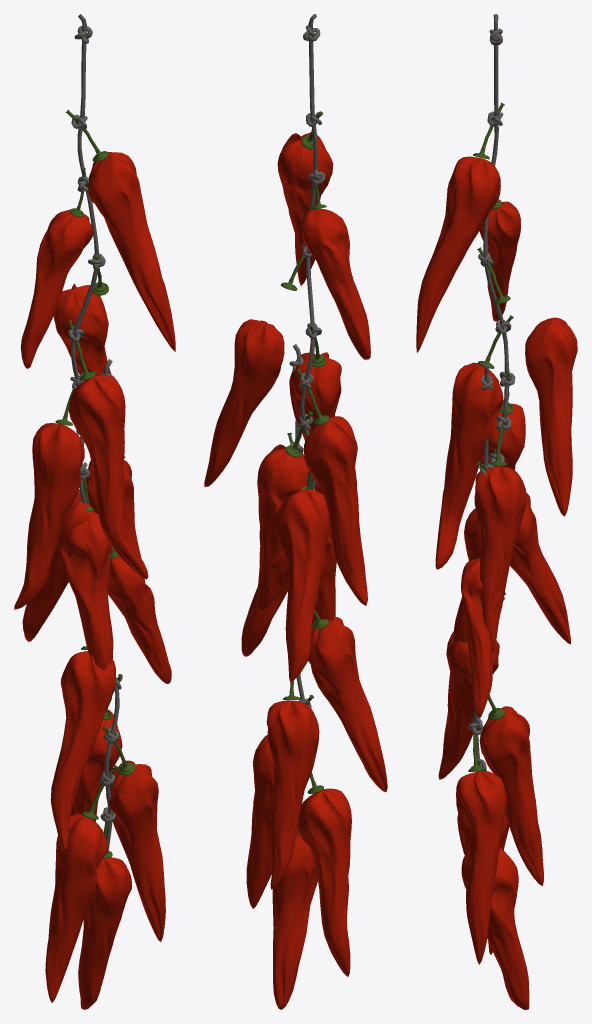
Rendered from chili.fbx.
3 views of the same model, side by side, from view 1: azimuth 30°, elevation 25°; view 2: azimuth 150°, elevation 25°; view 3: azimuth 270°, elevation 25° (orthographic). The views are drawn at different scales.
Parts seen in each view (by area): view 1: 25, 22, 24, 17, 14, 15, 21, 20, 13, 18, 26, Loft10 (+4 smaller); view 2: 19, 24, 16, 14, 17, 26, 13, 20, 23, 22, 15, Loft10 (+4 smaller); view 3: 26, 25, 22, 15, 23, 16, 13, 17, 19, 18, Loft10, 20 (+4 smaller).
Boxes of the visible parts, <box> form: 25: <box>68,375,148,579</box>; 22: <box>87,152,175,351</box>; 24: <box>14,423,84,609</box>; 17: <box>50,651,115,852</box>; 14: <box>45,813,108,1002</box>; 15: <box>106,760,165,941</box>; 21: <box>58,513,113,671</box>; 20: <box>20,209,92,368</box>; 13: <box>78,857,131,1009</box>; 18: <box>107,556,171,683</box>; 26: <box>53,283,111,380</box>; Loft10: <box>68,14,105,504</box>; 19: <box>275,489,329,682</box>; 24: <box>304,416,367,605</box>; 16: <box>266,700,319,889</box>; 14: <box>297,788,351,976</box>; 17: <box>308,617,387,792</box>; 26: <box>204,319,284,486</box>; 13: <box>272,833,317,1009</box>; 20: <box>301,208,370,359</box>; 23: <box>257,444,312,611</box>; 22: <box>277,132,333,285</box>; 15: <box>246,735,273,908</box>; Loft10: <box>298,14,325,490</box>; 26: <box>525,317,577,516</box>; 25: <box>435,362,503,569</box>; 22: <box>416,156,500,352</box>; 15: <box>456,771,507,964</box>; 23: <box>474,466,526,652</box>; 16: <box>479,706,543,885</box>; 13: <box>461,846,529,1009</box>; 17: <box>438,631,499,779</box>; 19: <box>509,493,570,644</box>; 18: <box>461,558,503,718</box>; Loft10: <box>478,14,515,466</box>; 20: <box>479,201,520,321</box>.
Size of the model in its own units: 6.9 by 47.13 by 6.98.
